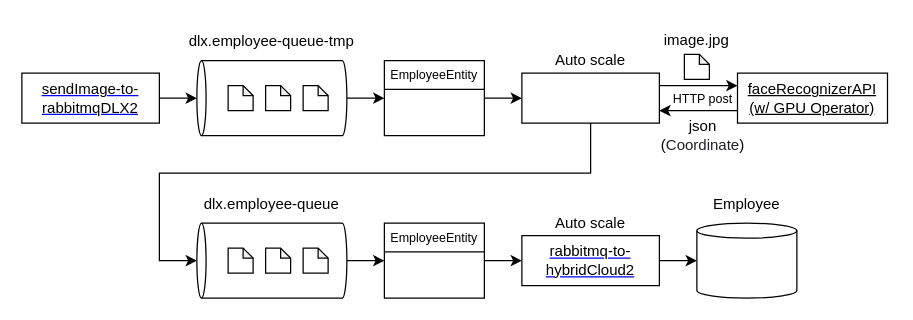
Some shapes in this 913 by 320 pixel diagram are drawn without their labels. The centre of each missing label's shape, as x and y in pixels:
"MongoDB" belongs at point (746, 260).
"rabbitmq-to-faceDetectedMQ 2" belongs at point (590, 97).
